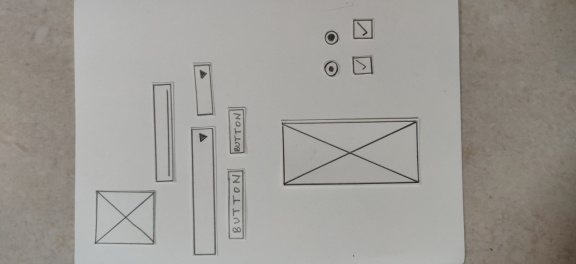button: (224, 164, 251, 243), (224, 105, 249, 158)
checkbox: (349, 16, 377, 43), (349, 53, 377, 78)
dropdown: (187, 124, 220, 258), (189, 60, 219, 119)
img: (276, 115, 426, 189), (91, 187, 159, 250)
radio: (321, 57, 341, 79), (321, 28, 342, 47)
text: (150, 79, 180, 184)
